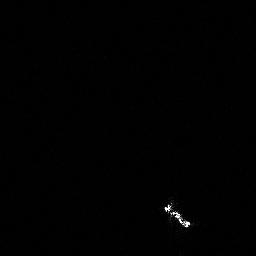ship: (162, 198, 196, 230)
